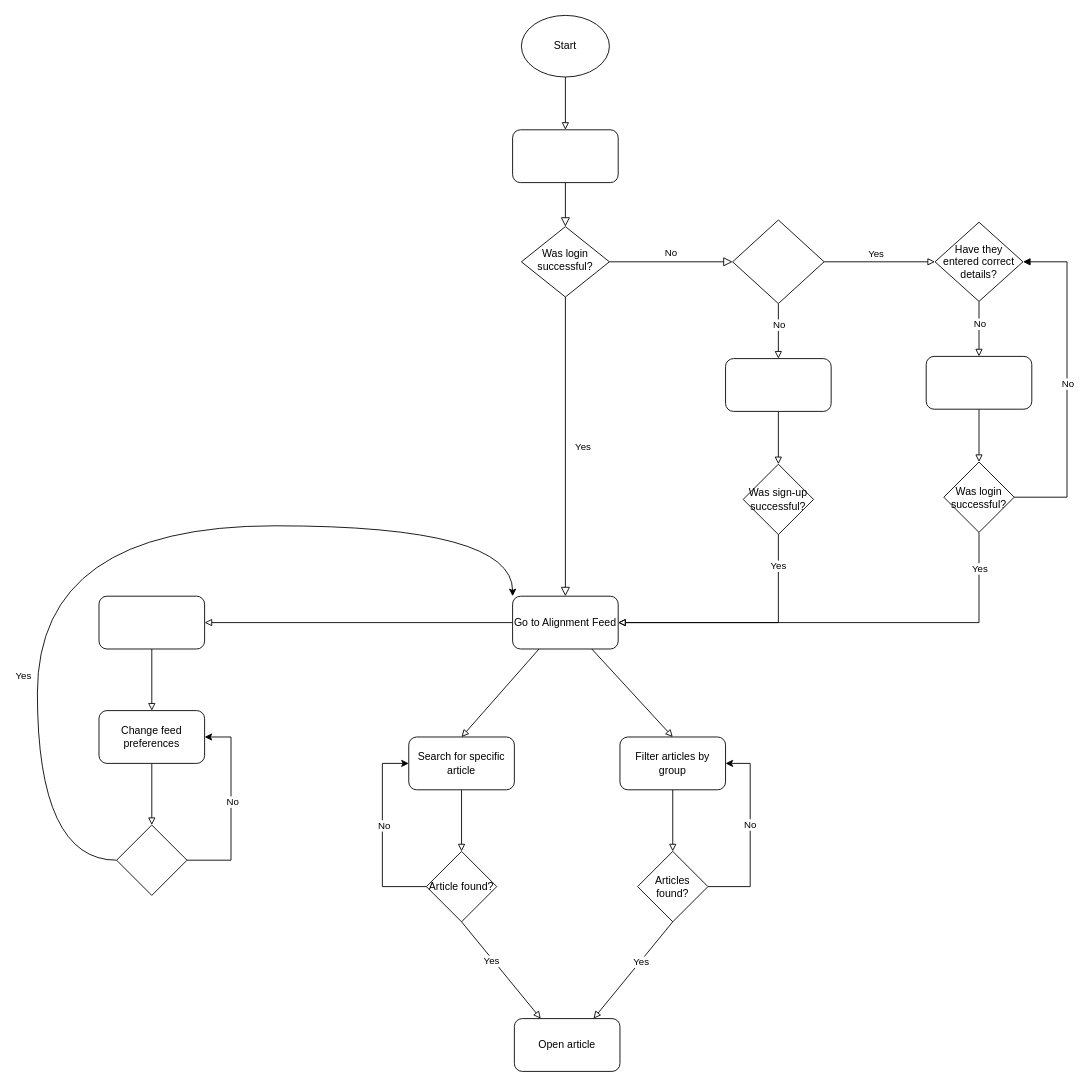
This 1089x1087 diagram has some shape labels left out. The centre of each missing label's shape, as x and y in pixels:
Does the user have an account?: point (778, 261)
Edit successful?: point (151, 859)
Go to Profile/Preferences: point (151, 622)
Login: point (565, 156)
Retry Login with correct details: point (978, 382)
Sign up: point (778, 384)
